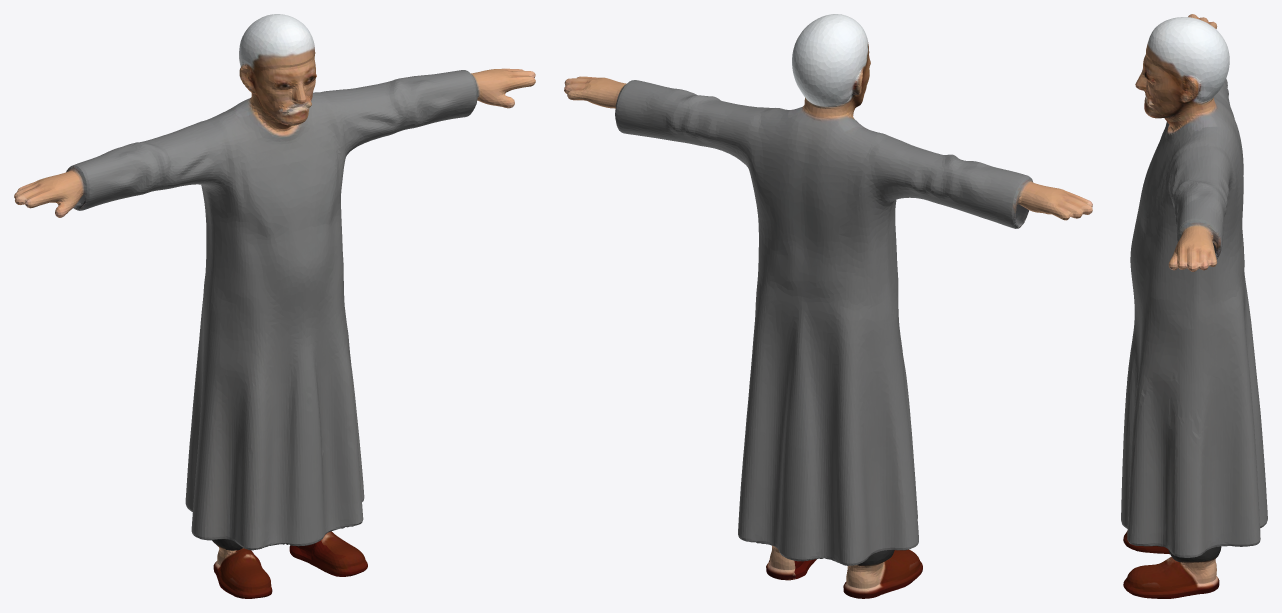
The model's file is samir.glb.
3 views of the same model, side by side, from view 1: azimuth 30°, elevation 25°; view 2: azimuth 150°, elevation 25°; view 3: azimuth 270°, elevation 25° (orthographic).
Visible parts, largest first — view 1: tmpx6zj84g3.ply; view 2: tmpx6zj84g3.ply; view 3: tmpx6zj84g3.ply.
Part boxes in pixels (box(x1,y1,x2,y2)): tmpx6zj84g3.ply: box(14, 14, 535, 598); tmpx6zj84g3.ply: box(564, 14, 1092, 598); tmpx6zj84g3.ply: box(1121, 14, 1267, 598).
Size of the model in its own units: 1.97 by 1.99 by 0.4836.
1 material, 1 textured.
